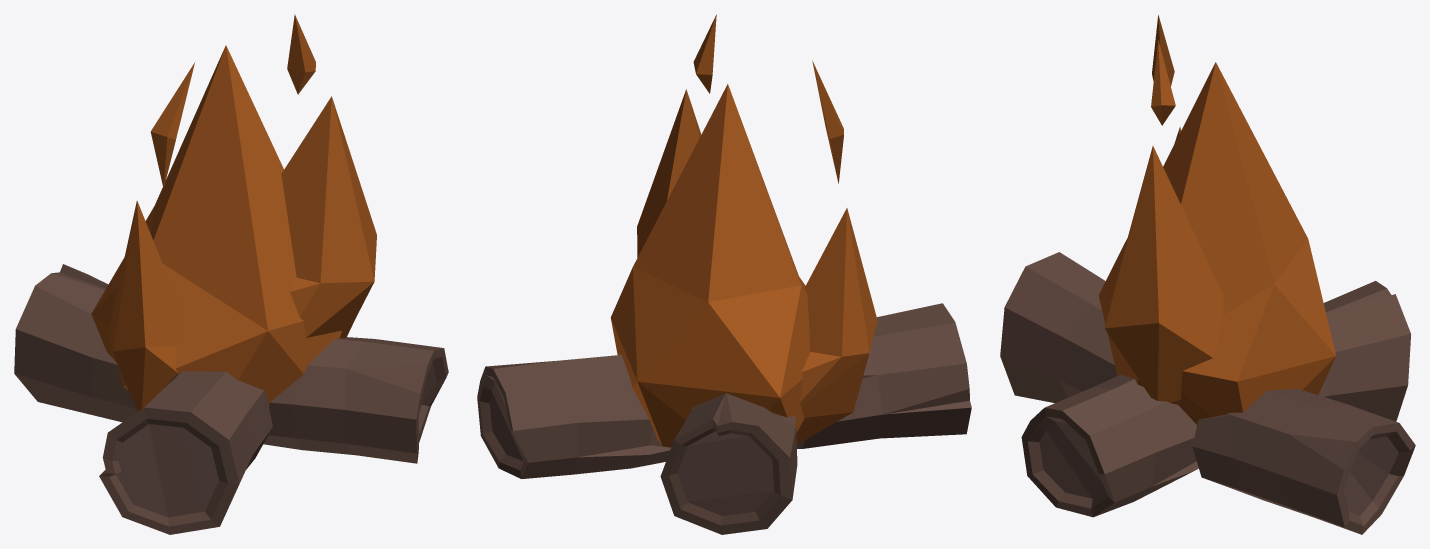
File: Bonfire.glb
3 renders of one model, left to right at view 1: azimuth 30°, elevation 25°; view 2: azimuth 150°, elevation 25°; view 3: azimuth 270°, elevation 25°, orthographic. The views are drawn at different scales.
Parts seen in each view (by area): view 1: Bonfire; view 2: Bonfire; view 3: Bonfire.
Boxes of the visible parts, x1,y1,x2,y2 form: Bonfire: (14,14,448,534); Bonfire: (477,14,971,534); Bonfire: (1000,15,1415,534).
Bounding box in the file's own units: 0.3263 × 0.3467 × 0.2976.
